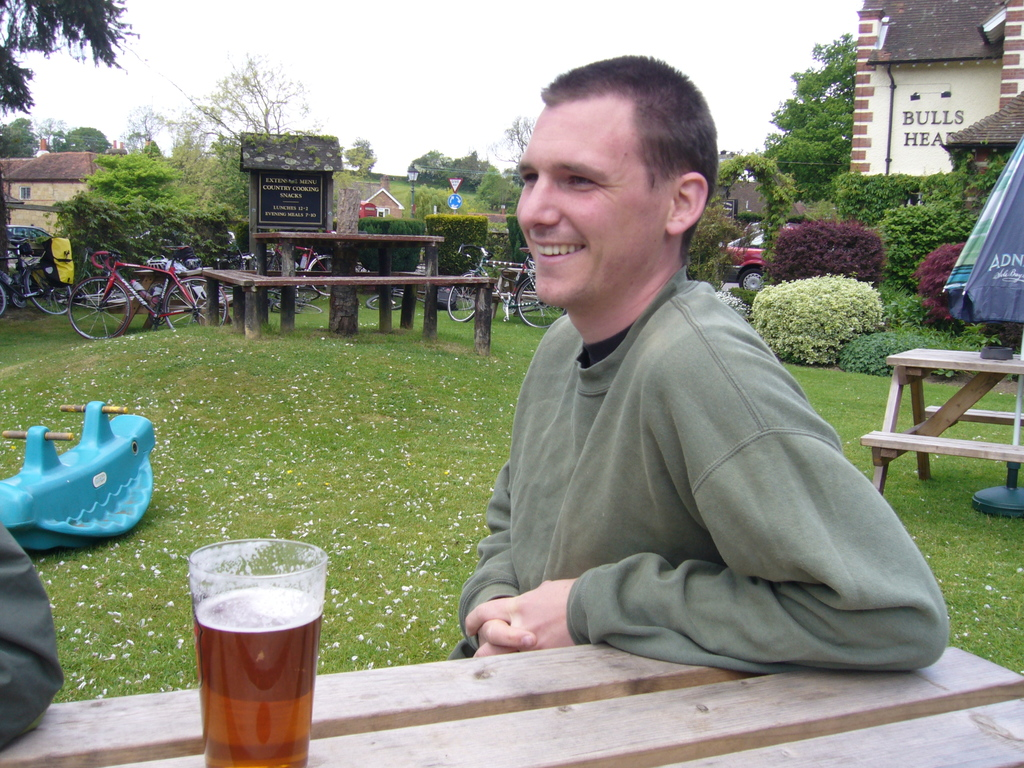Beer: (199, 579, 312, 767)
